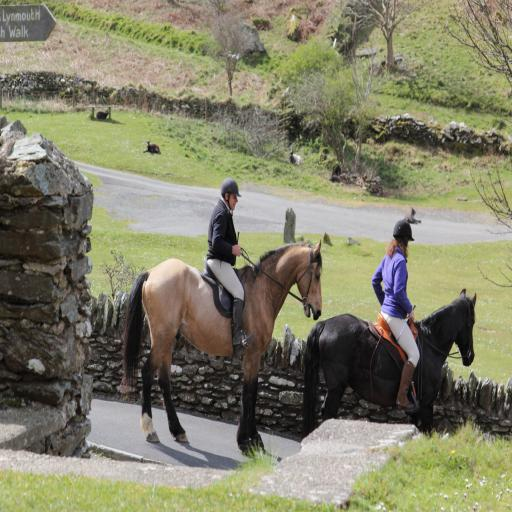horse: (116, 238, 324, 458), (300, 287, 475, 441)
